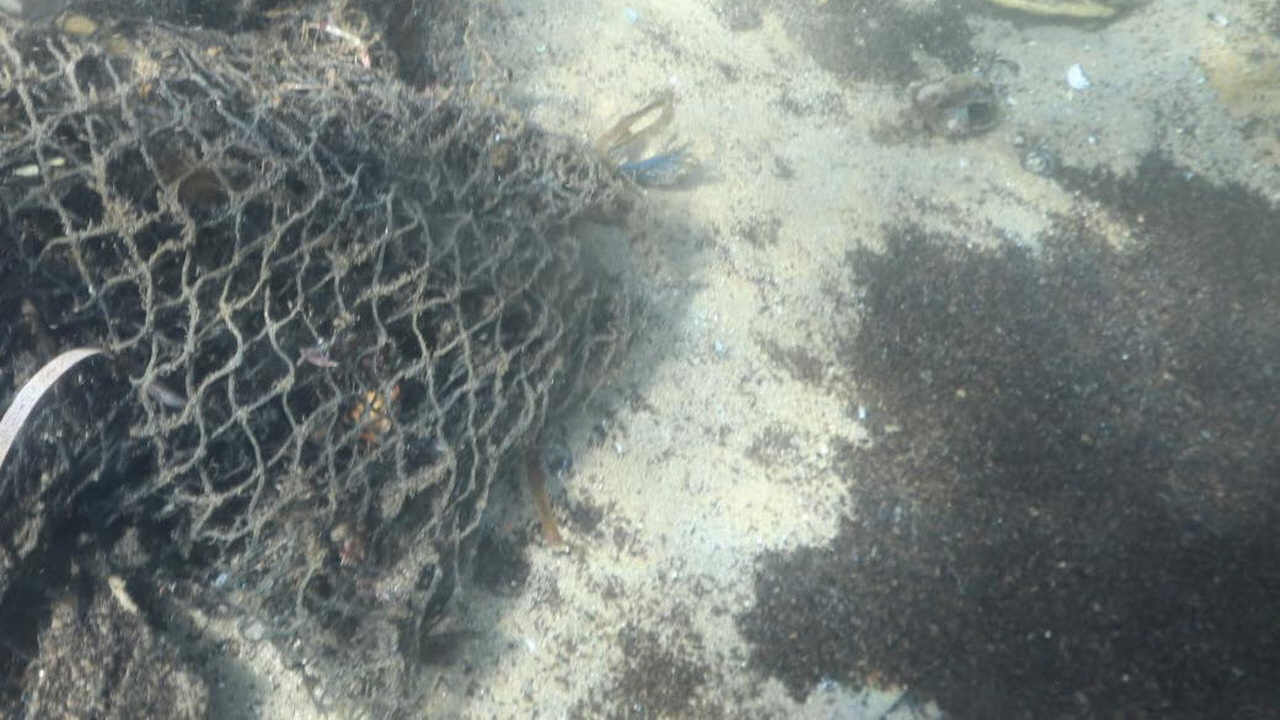fish net: (0, 0, 618, 720)
